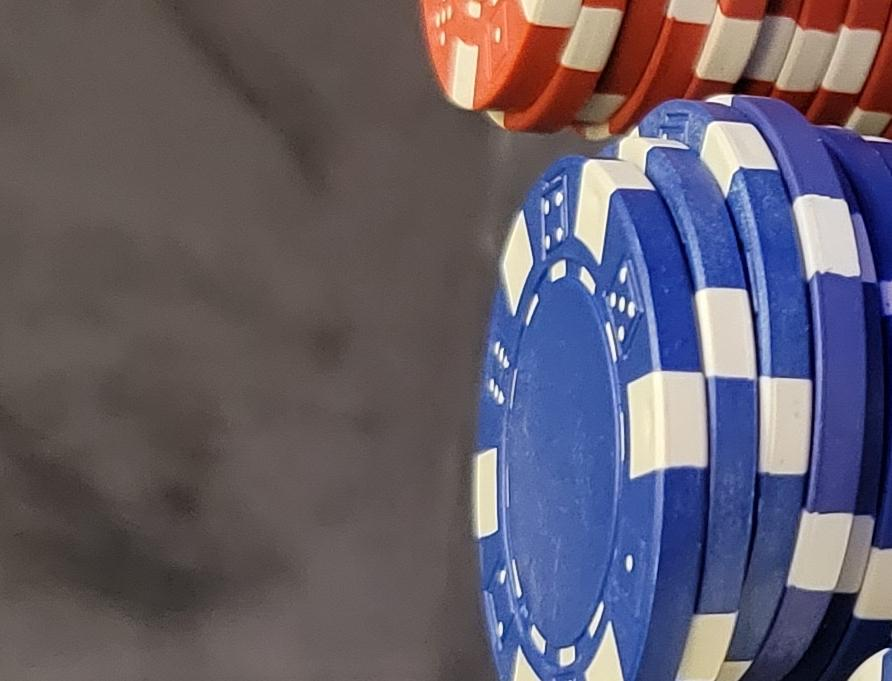Chip: (1, 367, 467, 681)
